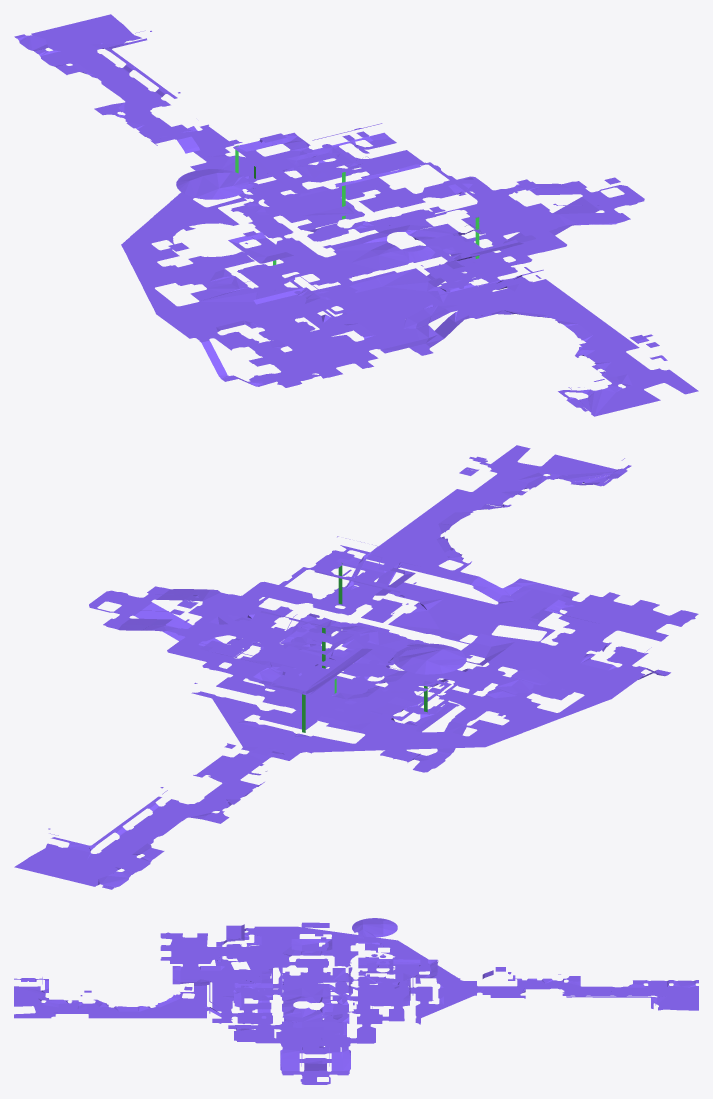
Rendered from de_nuke.gltf.
3 renders of one model, top to bottom at view 1: azimuth 30°, elevation 25°; view 2: azimuth 150°, elevation 25°; view 3: azimuth 270°, elevation 25°, orthographic. The views are drawn at different scales.
Parts seen in each view (by area): view 1: navmesh_hull_0; view 2: navmesh_hull_0; view 3: navmesh_hull_0.
Part boxes in pixels (<box>): navmesh_hull_0: <box>14,14,698,416</box>; navmesh_hull_0: <box>14,445,698,889</box>; navmesh_hull_0: <box>14,918,698,1084</box>.
Size of the model in its own units: 86.6 by 19.2 by 165.
